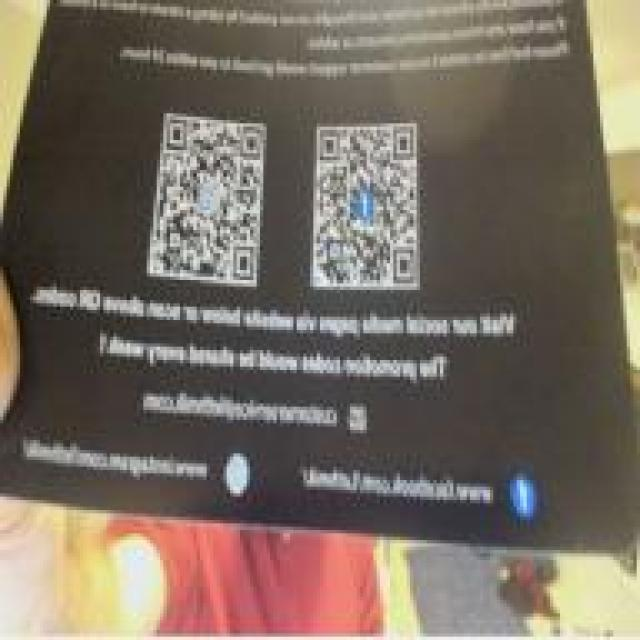QR_CODE: (305, 64, 430, 304), (134, 93, 274, 305)
